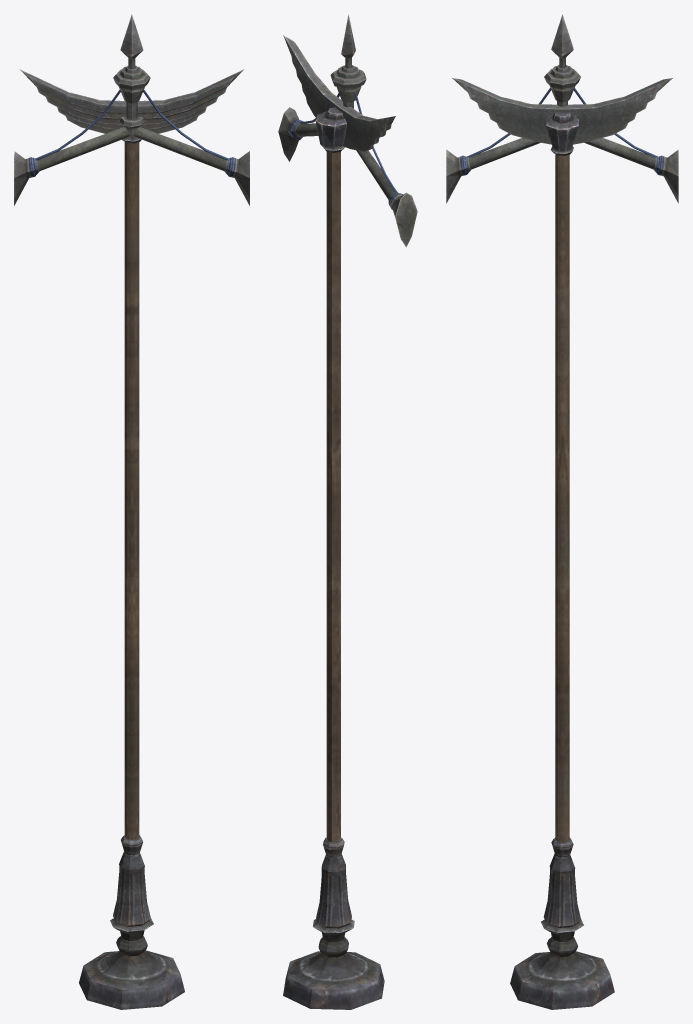
The model's file is bg_lut_lucastle_castleflag06a_sm.FBX.
3 renders of one model, left to right at view 1: azimuth 90°, elevation 25°; view 2: azimuth 210°, elevation 25°; view 3: azimuth 270°, elevation 25°, orthographic.
Parts seen in each view (by area): view 1: bg_lut_lucastle_castleflag06a_sm; view 2: bg_lut_lucastle_castleflag06a_sm; view 3: bg_lut_lucastle_castleflag06a_sm.
Part boxes in pixels (<box>): bg_lut_lucastle_castleflag06a_sm: <box>14,14,249,1009</box>; bg_lut_lucastle_castleflag06a_sm: <box>278,14,417,1009</box>; bg_lut_lucastle_castleflag06a_sm: <box>446,14,678,1009</box>.
Bounding box in the file's own units: 60.2 × 613 × 134.
